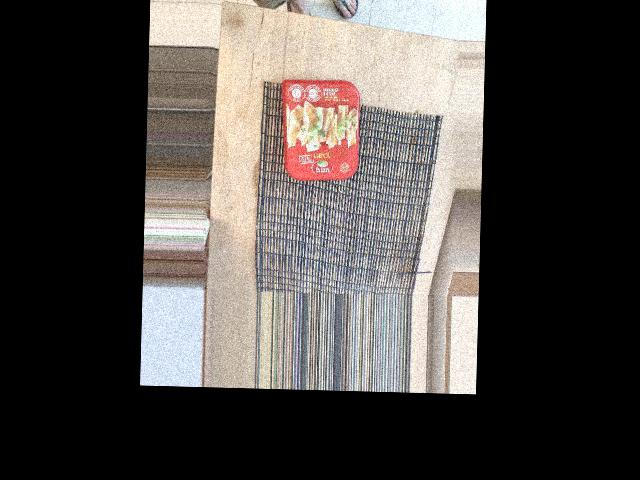cheese: (302, 117, 433, 210)
